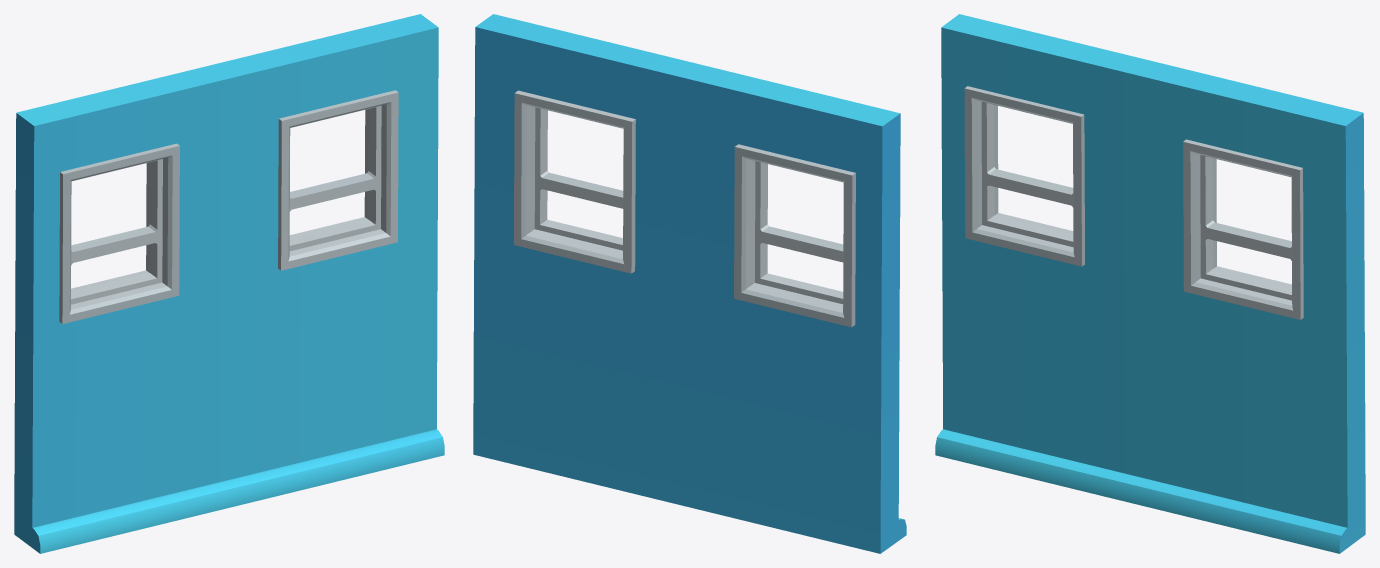
The model's file is Wall003.fbx.
3 views of the same model, side by side, from view 1: azimuth 30°, elevation 25°; view 2: azimuth 150°, elevation 25°; view 3: azimuth 330°, elevation 25° (orthographic).
Visible parts, largest first — view 1: Wall003; view 2: Wall003; view 3: Wall003.
Boxes of the visible parts, <box> form: Wall003: <box>14,14,444,553</box>; Wall003: <box>473,14,906,553</box>; Wall003: <box>935,14,1365,553</box>.
Bounding box in the file's own units: 250 × 250 × 30.71.
